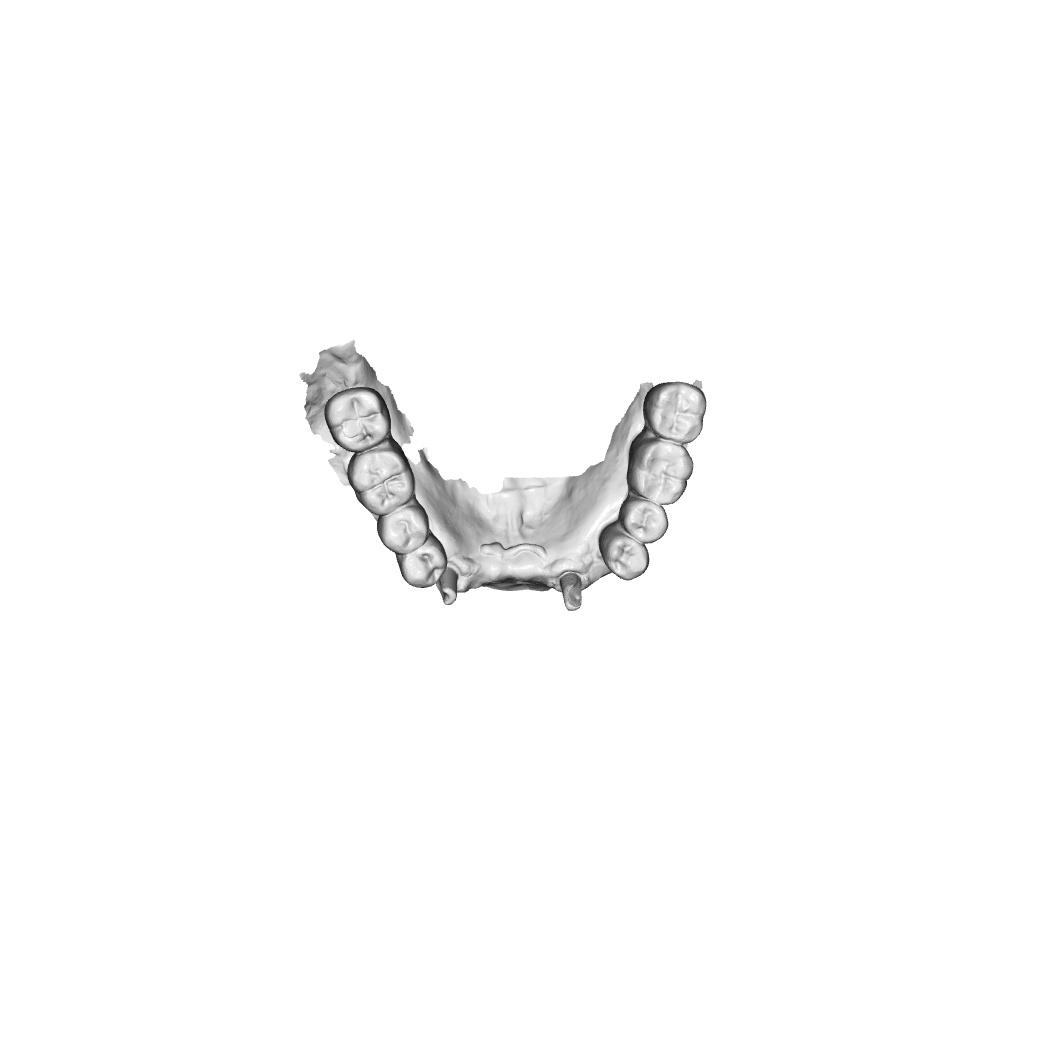abutment: (557, 569, 587, 614), (433, 563, 462, 607)
molar: (344, 442, 417, 518), (322, 385, 392, 455), (624, 438, 695, 507), (641, 380, 708, 444)
premolar: (375, 500, 433, 556), (396, 534, 447, 590), (599, 527, 650, 582), (617, 498, 670, 544)
